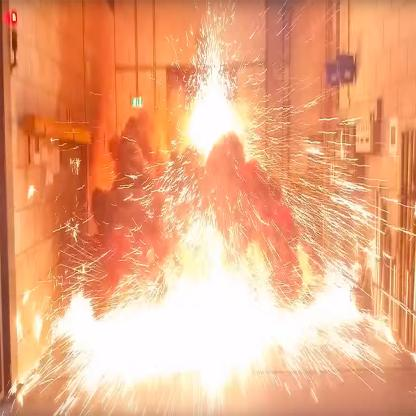fire: (41, 214, 382, 397), (181, 63, 251, 153)
